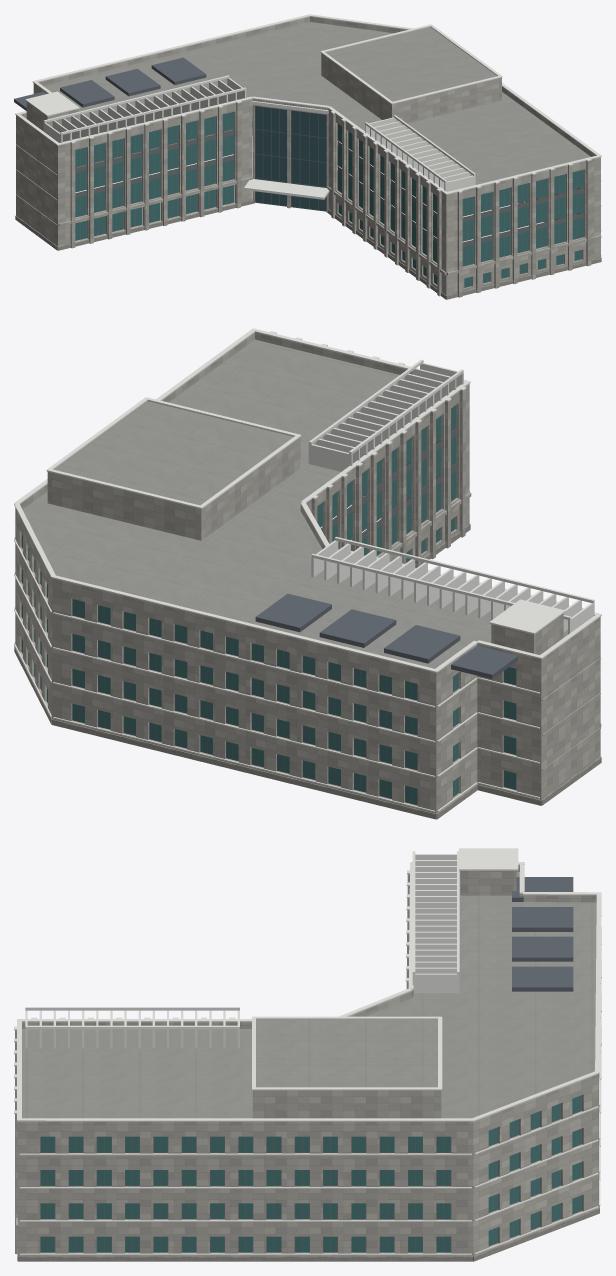
3 renders of one model, top to bottom at view 1: azimuth 30°, elevation 25°; view 2: azimuth 150°, elevation 25°; view 3: azimuth 270°, elevation 25°, orthographic. The views are drawn at different scales.
Visible parts, largest first — view 1: lifeScienceEast__stone, lifeScienceEast__roof, lifeScienceEast__glass, lifeScienceEast__trim, lifeScienceEast__frame, lifeScienceEast__glassJoint, lifeScienceEast__roofDark, lifeScienceEast__granite; view 2: lifeScienceEast__stone, lifeScienceEast__roof, lifeScienceEast__trim, lifeScienceEast__glass, lifeScienceEast__roofDark, lifeScienceEast__frame, lifeScienceEast__granite; view 3: lifeScienceEast__stone, lifeScienceEast__roof, lifeScienceEast__trim, lifeScienceEast__glass, lifeScienceEast__roofDark, lifeScienceEast__frame, lifeScienceEast__granite.
Boxes of the visible parts, x1,y1,x2,y2 form: lifeScienceEast__stone: [16, 16, 601, 297]; lifeScienceEast__roof: [44, 22, 590, 184]; lifeScienceEast__glass: [75, 111, 583, 287]; lifeScienceEast__trim: [15, 14, 601, 256]; lifeScienceEast__frame: [75, 106, 584, 287]; lifeScienceEast__glassJoint: [255, 106, 326, 210]; lifeScienceEast__roofDark: [14, 57, 206, 110]; lifeScienceEast__granite: [15, 200, 601, 299]; lifeScienceEast__stone: [15, 332, 601, 813]; lifeScienceEast__roof: [22, 339, 567, 668]; lifeScienceEast__trim: [14, 328, 601, 812]; lifeScienceEast__glass: [22, 405, 516, 804]; lifeScienceEast__roofDark: [255, 593, 518, 679]; lifeScienceEast__frame: [21, 405, 516, 805]; lifeScienceEast__granite: [14, 524, 601, 819]; lifeScienceEast__stone: [15, 865, 599, 1256]; lifeScienceEast__roof: [22, 872, 596, 1118]; lifeScienceEast__trim: [14, 848, 601, 1255]; lifeScienceEast__glass: [41, 1095, 581, 1252]; lifeScienceEast__roofDark: [512, 877, 573, 991]; lifeScienceEast__frame: [40, 1095, 582, 1252]; lifeScienceEast__granite: [17, 1206, 599, 1261].
Bounding box in the file's own units: 64.94 × 19.34 × 62.37.
8 materials, 3 textured.
